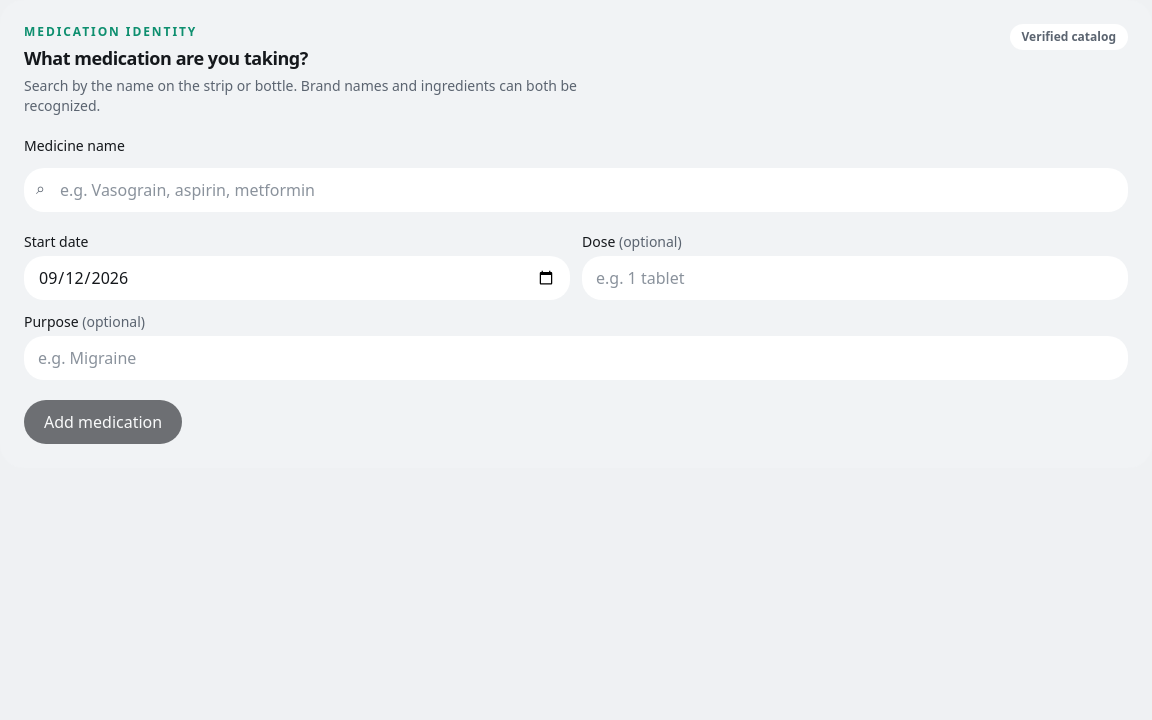
Test case: MedicationPicker keyboard › moves the highlighted option and selects with Enter
This screenshot has width=1152, height=720.
Type "ex" into the dropdown labelled "Medicine name".
click(576, 190); type("ex")  # box [24,168,1128,212]
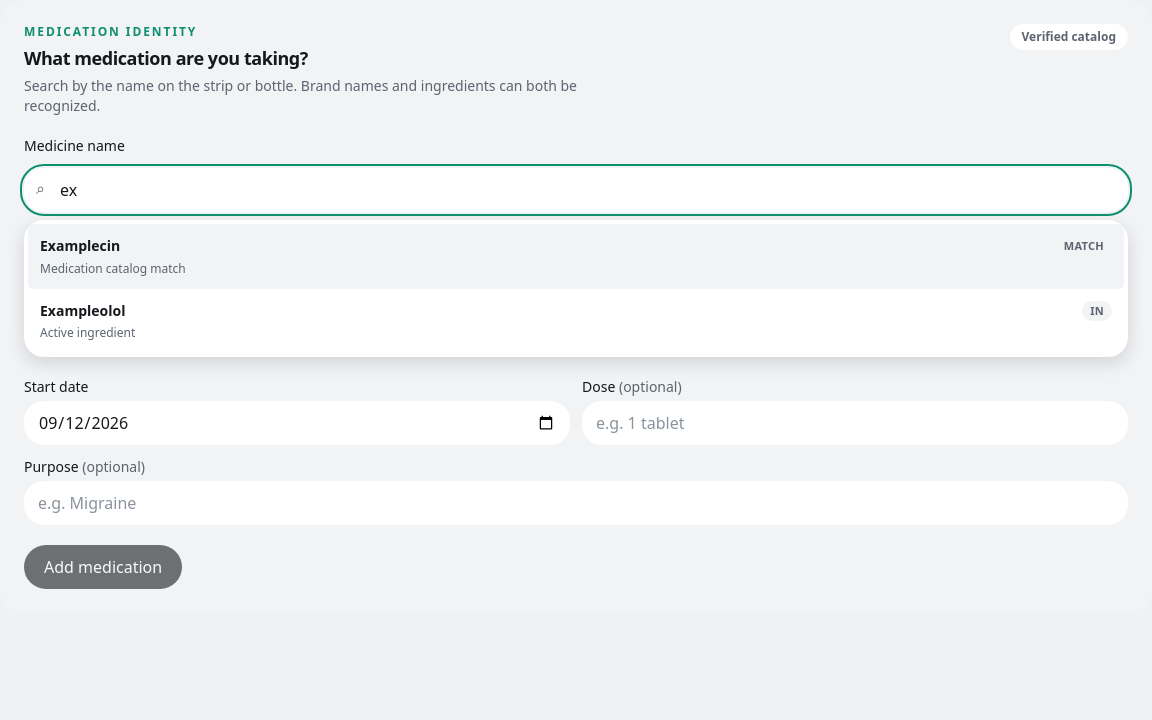
Press Arrowdown
Press Enter
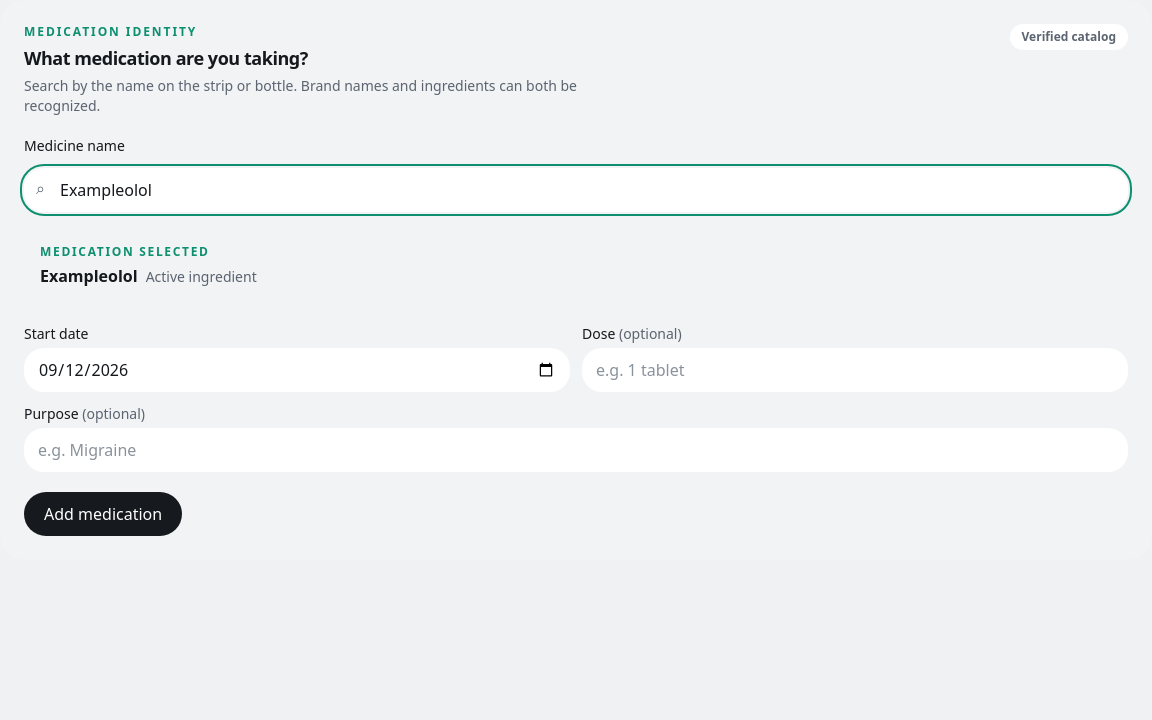
Check: the text "Exampleolol" is shown, box [40,264,138,288]
Check: the text "Medication selected" is shown, box [40,243,210,260]
Check: the list is gone
